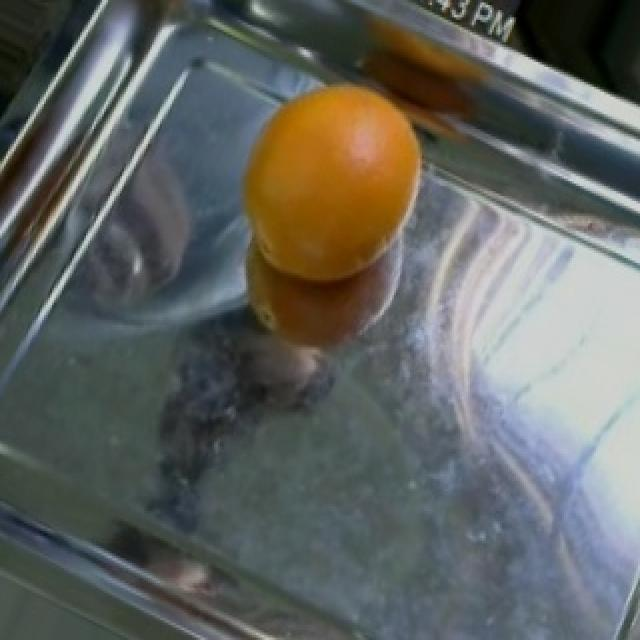Fruit: (226, 77, 446, 305)
